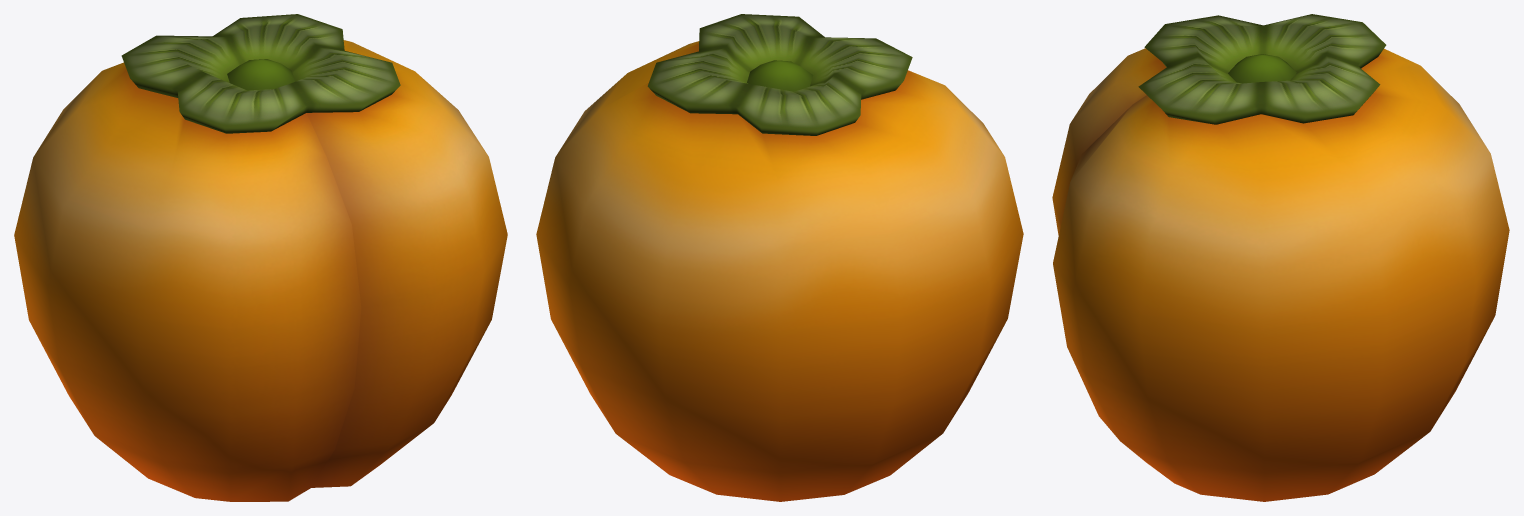
File: Persimmon_Yellow.fbx
3 renders of one model, left to right at view 1: azimuth 30°, elevation 25°; view 2: azimuth 150°, elevation 25°; view 3: azimuth 270°, elevation 25°, orthographic.
Parts seen in each view (by area): view 1: Persimmon_Yellow; view 2: Persimmon_Yellow; view 3: Persimmon_Yellow.
Part boxes in pixels (left/top/right/bottom): Persimmon_Yellow: left=14, top=14, right=507, bottom=501; Persimmon_Yellow: left=536, top=14, right=1023, bottom=501; Persimmon_Yellow: left=1052, top=14, right=1509, bottom=501.
Bounding box in the file's own units: 28.28 × 26.88 × 26.18.
Materials: 1 (1 with a texture image).
